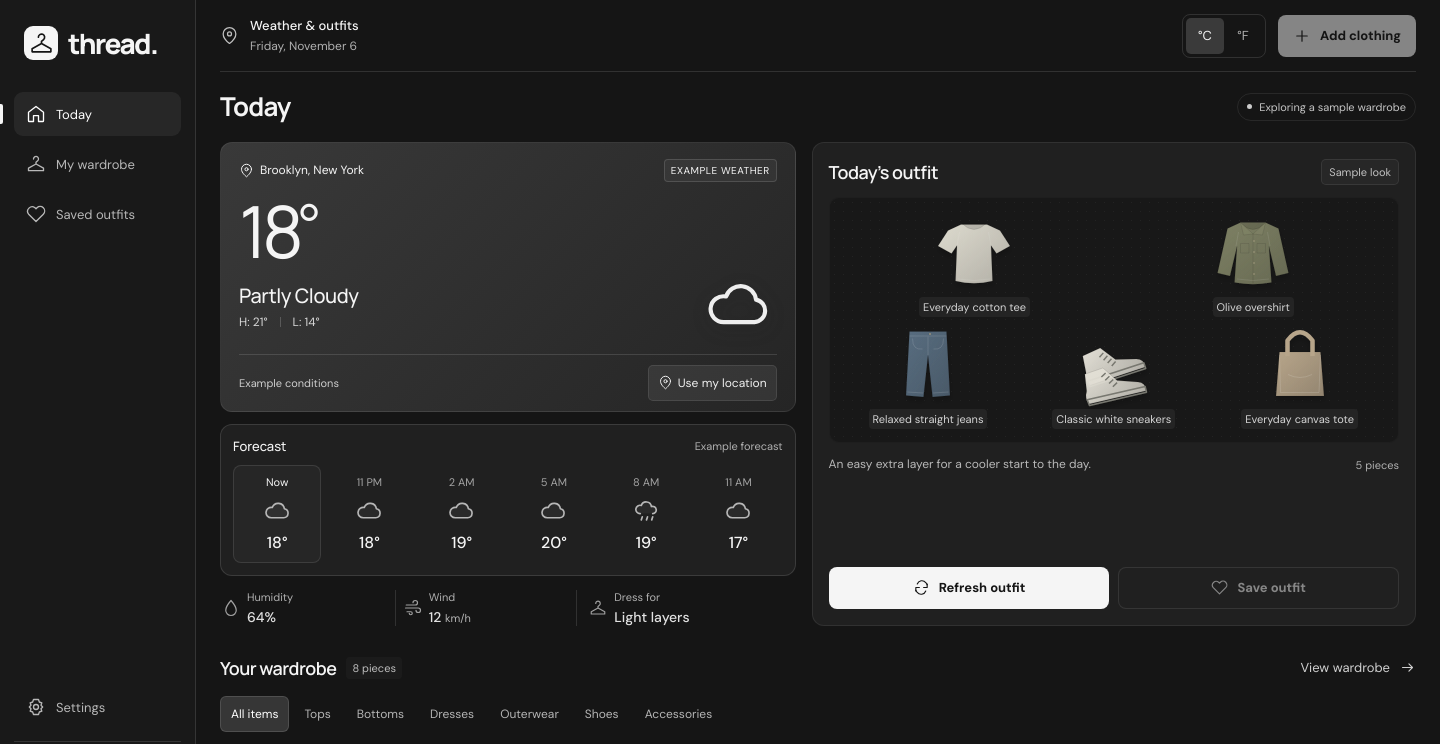
Test case: loads live weather and converts display units without changing matching temperature
This screenshot has width=1440, height=744.
Click the button "Use my location".
click(712, 383)  # box [648,365,777,401]
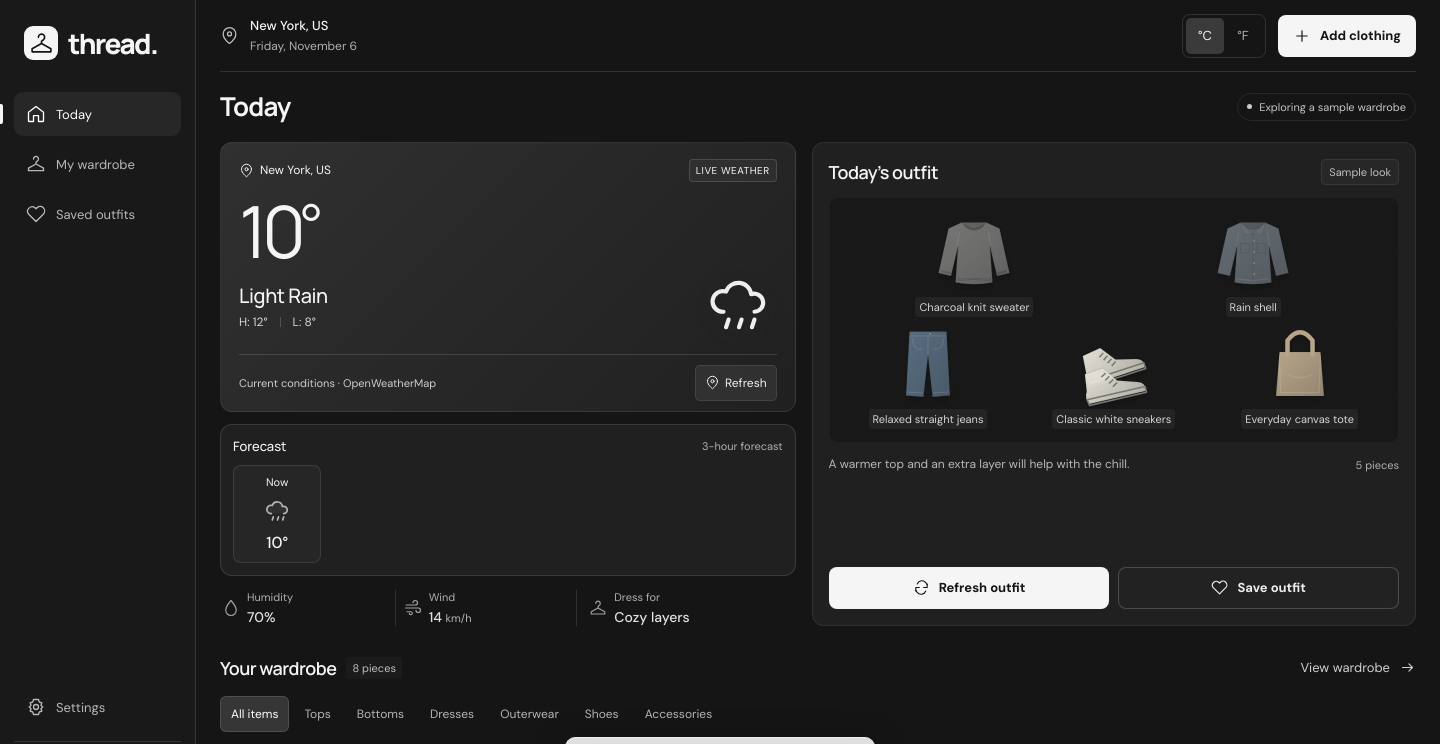
Check: the text "LIVE WEATHER" is shown, box [689,159,777,182]
Check: the heading "Light rain" is shown, box [239,282,328,309]
Click the button "°F".
click(1243, 36)  # box [1224,18,1262,54]
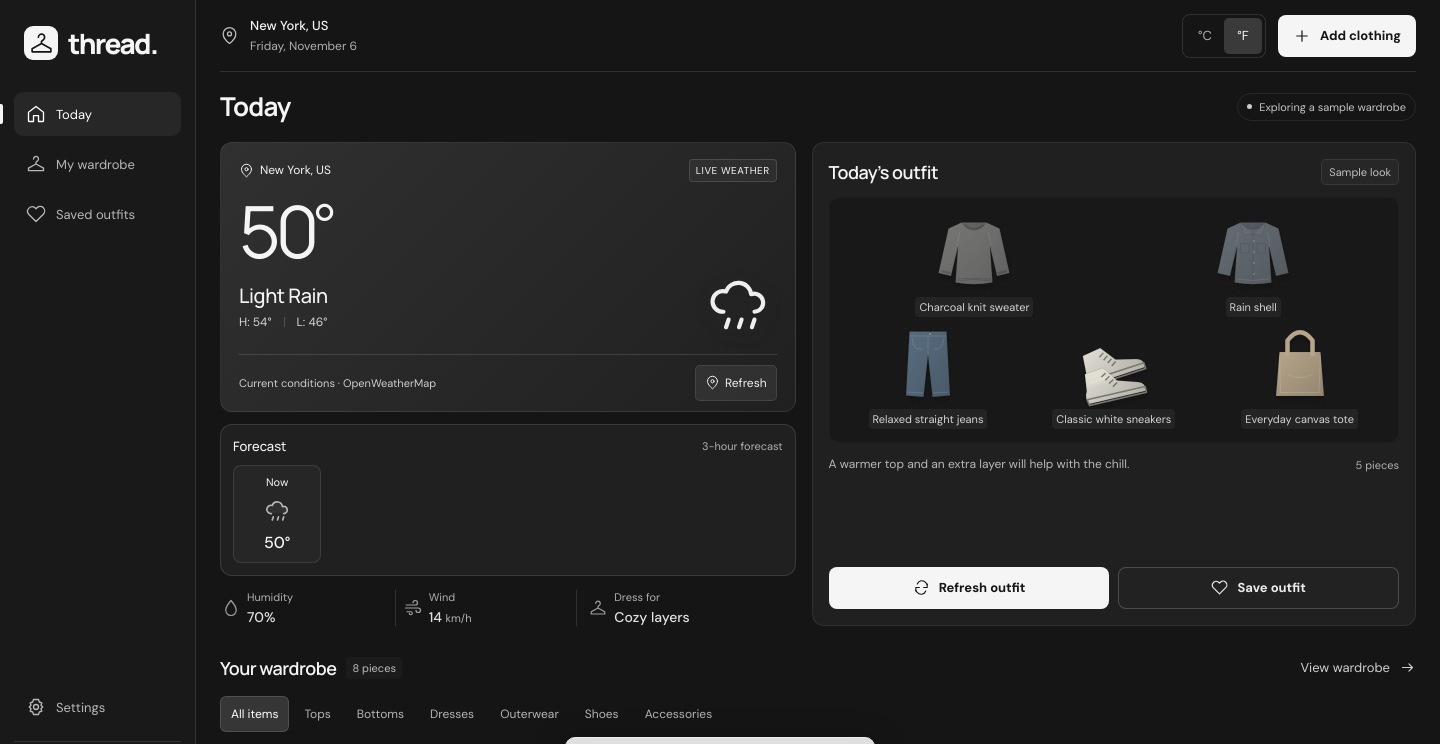
Check: the text "Exploring a sample wardrobe" is shown, box [1237,93,1416,121]
Check: the text "H: 54°L: 46°" is shown, box [239,314,328,330]
